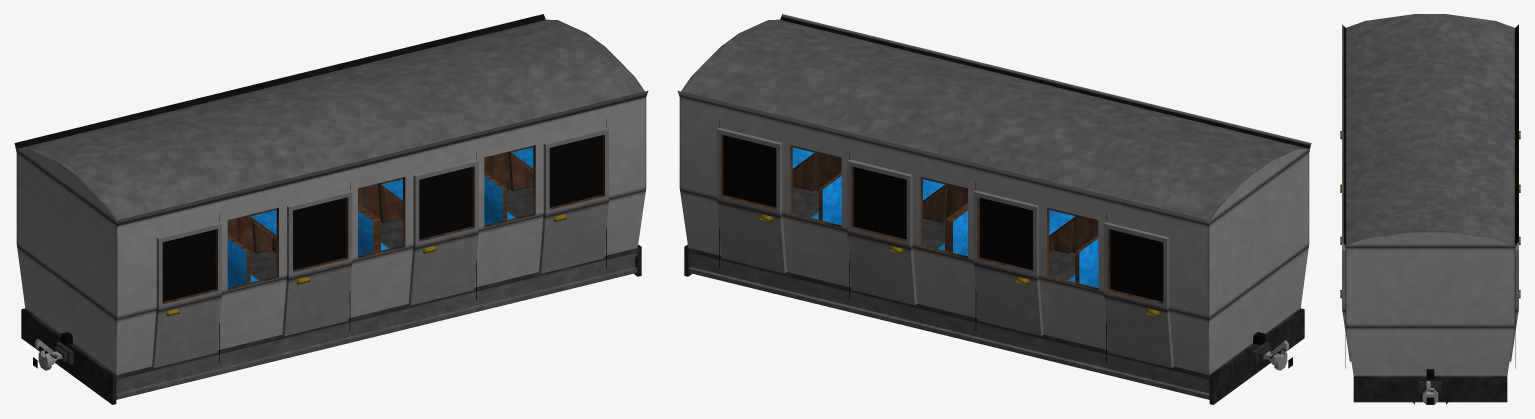
The model's file is kitsune_mk2_coach_suburban.obj.
3 renders of one model, left to right at view 1: azimuth 30°, elevation 25°; view 2: azimuth 150°, elevation 25°; view 3: azimuth 270°, elevation 25°, orthographic. The views are drawn at different scales.
Visible parts, largest first — view 1: FRAME_body, FRAME_body_roof, DOOR_7_EXTERNAL, DOOR_9_EXTERNAL, DOOR_2_EXTERNAL, DOOR_3_EXTERNAL, FRAME_3, FRAME_2, FRAME_1, FRAME_end1, FRAME_body_int, FRAME_body_int.001 (+7 smaller); view 2: FRAME_body, FRAME_body_roof, DOOR_8_EXTERNAL, DOOR_1_EXTERNAL, DOOR_10_EXTERNAL, DOOR_4_EXTERNAL, FRAME_3, FRAME_2, FRAME_1, FRAME_end1, FRAME_body_int, FRAME_body_int.001 (+7 smaller); view 3: FRAME_body_roof, FRAME_body, FRAME_end2, COUPLER_ENGAGED_REAR_2_TOGGLE_LABEL_Uncouple, DOOR_4_EXTERNAL, DOOR_3_EXTERNAL.
Part boxes in pixels (bbox=[...]): FRAME_body: bbox=[14, 14, 648, 374]; FRAME_body_roof: bbox=[17, 19, 644, 221]; DOOR_7_EXTERNAL: bbox=[282, 190, 352, 336]; DOOR_9_EXTERNAL: bbox=[408, 159, 478, 305]; DOOR_2_EXTERNAL: bbox=[152, 222, 221, 367]; DOOR_3_EXTERNAL: bbox=[539, 127, 608, 273]; FRAME_3: bbox=[381, 190, 604, 317]; FRAME_2: bbox=[250, 241, 451, 354]; FRAME_1: bbox=[147, 332, 301, 391]; FRAME_end1: bbox=[21, 308, 149, 404]; FRAME_body_int: bbox=[253, 145, 533, 253]; FRAME_body_int.001: bbox=[227, 145, 535, 290]; FRAME_body: bbox=[677, 14, 1311, 374]; FRAME_body_roof: bbox=[681, 19, 1308, 221]; DOOR_8_EXTERNAL: bbox=[973, 190, 1043, 336]; DOOR_1_EXTERNAL: bbox=[1104, 222, 1173, 367]; DOOR_10_EXTERNAL: bbox=[847, 159, 917, 305]; DOOR_4_EXTERNAL: bbox=[717, 127, 786, 273]; FRAME_3: bbox=[721, 190, 944, 317]; FRAME_2: bbox=[874, 241, 1075, 354]; FRAME_1: bbox=[1024, 332, 1178, 391]; FRAME_end1: bbox=[1176, 308, 1304, 404]; FRAME_body_int: bbox=[792, 145, 1072, 253]; FRAME_body_int.001: bbox=[790, 145, 1098, 290]; FRAME_body_roof: bbox=[1346, 14, 1514, 245]; FRAME_body: bbox=[1342, 24, 1518, 376]; FRAME_end2: bbox=[1353, 376, 1507, 402]; COUPLER_ENGAGED_REAR_2_TOGGLE_LABEL_Uncouple: bbox=[1419, 381, 1441, 404]; DOOR_4_EXTERNAL: bbox=[1509, 242, 1520, 361]; DOOR_3_EXTERNAL: bbox=[1340, 242, 1351, 361].
Bounding box in the file's own units: 9.38 × 3.31 × 2.94.
Materials: 5 (5 with a texture image).
